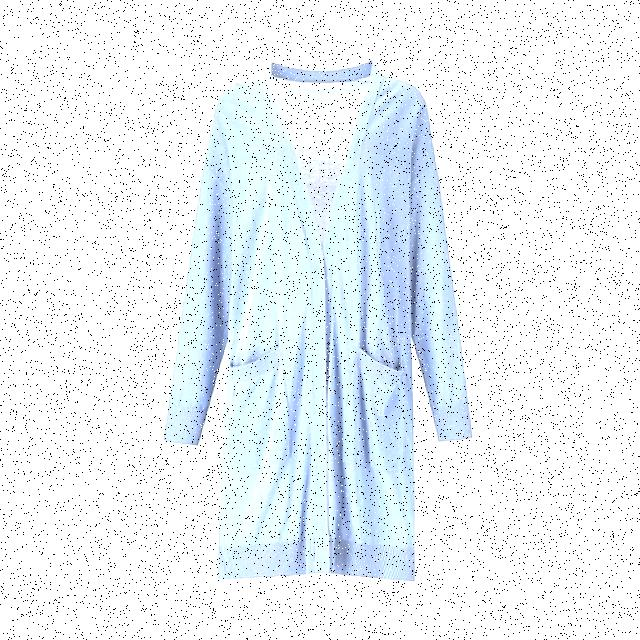Blouse_deep: (160, 58, 477, 581)
